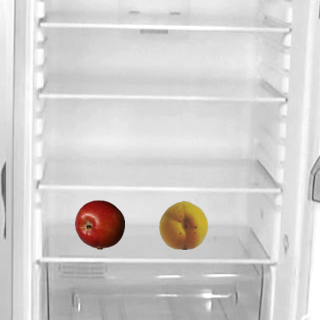Apple Braeburn: (74, 199, 124, 249)
Peach 2: (158, 199, 208, 249)
